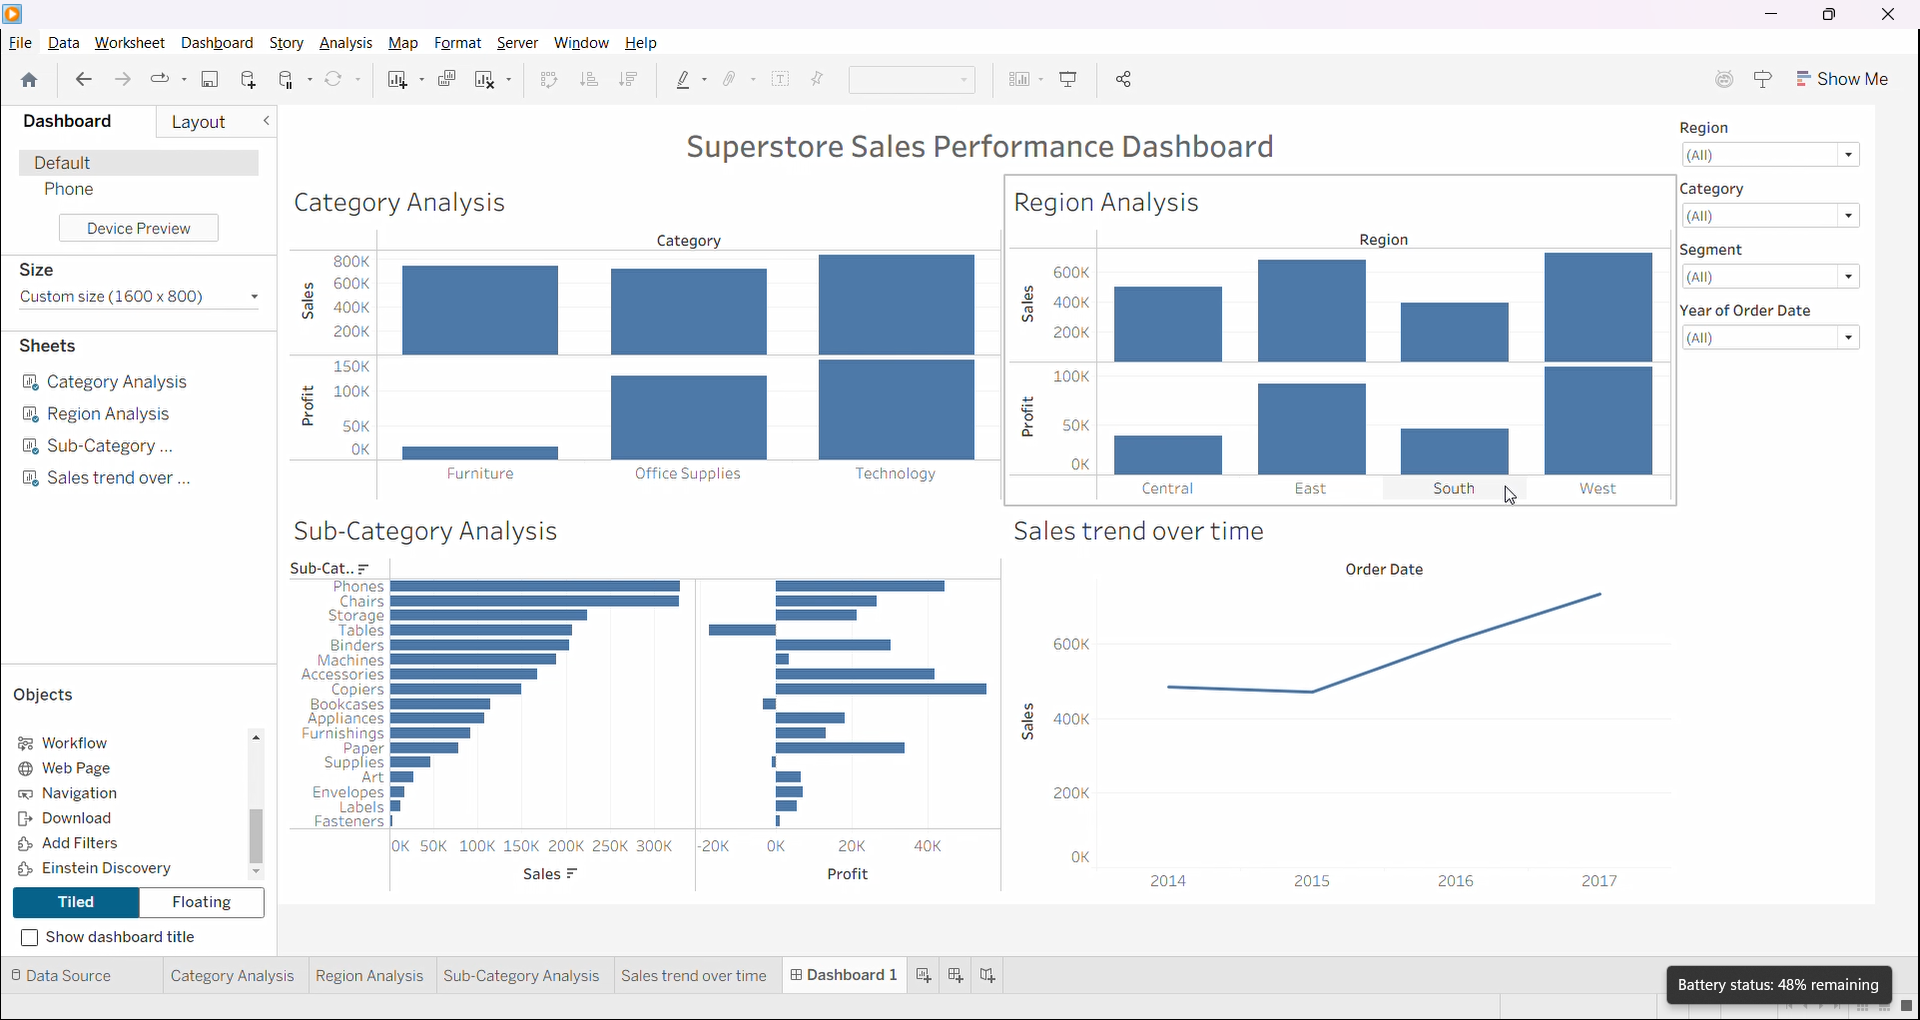

This screenshot's page, from the dashboard's own definition file:
{"tool":"tableau","page":{"name":"Superstore sales performance dashboard","canvas":[1600,800],"ordinal":0},"visuals":[{"type":"text","box":[8,8,1392,63]},{"type":"filter","title":"Region Analysis","param":"[federated.09it0q80qxqjaz1h5h7yw1fofg5u].[none:Region:nk]","box":[1400,8,192,61]},{"type":"filter","title":"Category Analysis","param":"[federated.09it0q80qxqjaz1h5h7yw1fofg5u].[none:Category:nk]","box":[1400,69,192,61]},{"type":"worksheet","title":"Category Analysis","mark":"Automatic","rows":["Sales","Profit"],"cols":["Category"],"box":[8,71,721,329]},{"type":"worksheet","title":"Region Analysis","mark":"Automatic","rows":["Sales","Profit"],"cols":["Region"],"box":[729,71,671,329]},{"type":"filter","title":"Category Analysis","param":"[federated.09it0q80qxqjaz1h5h7yw1fofg5u].[none:Segment:nk]","box":[1400,130,192,61]},{"type":"filter","title":"Sales trend over time","param":"[federated.09it0q80qxqjaz1h5h7yw1fofg5u].[yr:Order Date:ok]","box":[1400,191,192,61]},{"type":"worksheet","title":"Sub-Category Analysis","mark":"Automatic","rows":["Sub-Category"],"cols":["Sales","Profit"],"box":[8,400,721,392]},{"type":"worksheet","title":"Sales trend over time","mark":"Line","rows":["Sales"],"cols":["Order Date"],"box":[729,400,671,392]}]}

Visuals, with their boxes on the page's 1600x800 design canvas (x1, y1, x2, y2). These are canvas units, not pixel positions in the 1920x1020 screenshot, which may show the page scaled, cropped or inside an application window:
text: box(8, 8, 1400, 71)
"Region Analysis" filter: box(1400, 8, 1592, 69)
"Category Analysis" filter: box(1400, 69, 1592, 130)
"Category Analysis" worksheet: box(8, 71, 729, 400)
"Region Analysis" worksheet: box(729, 71, 1400, 400)
"Category Analysis" filter: box(1400, 130, 1592, 191)
"Sales trend over time" filter: box(1400, 191, 1592, 252)
"Sub-Category Analysis" worksheet: box(8, 400, 729, 792)
"Sales trend over time" worksheet (Line marks): box(729, 400, 1400, 792)
